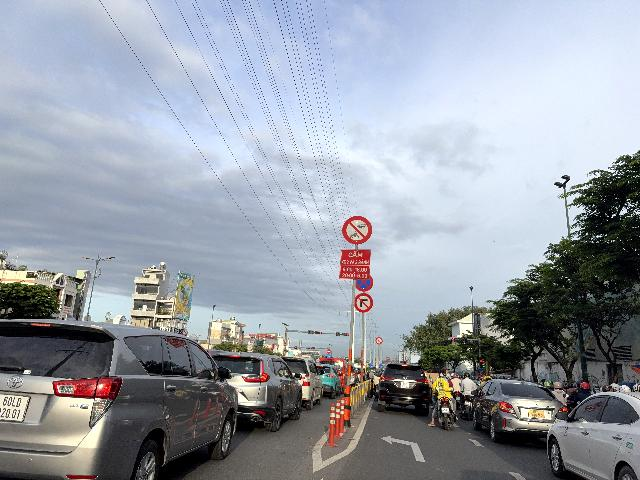cam-re-phai: (354, 293, 374, 313)
cam-xe-2-banh-3-banh: (342, 215, 372, 244)
